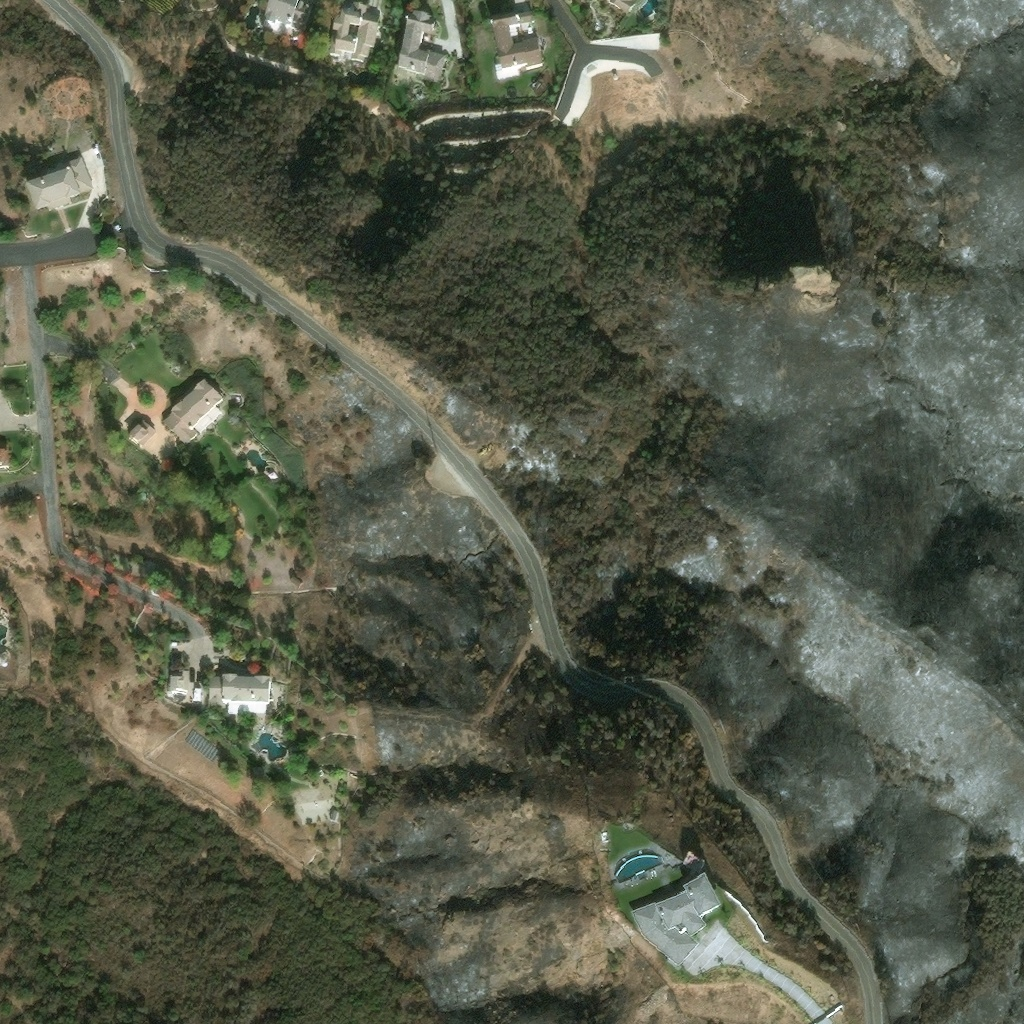0 no-damage: (630, 875, 721, 968), (488, 8, 547, 81), (160, 379, 223, 447), (23, 157, 95, 212), (396, 10, 448, 85), (327, 3, 385, 66), (208, 676, 271, 716), (262, 0, 310, 38), (127, 421, 156, 449), (603, 0, 637, 17), (167, 674, 194, 695), (682, 852, 706, 875), (0, 445, 8, 468), (232, 394, 243, 407), (329, 808, 338, 821), (1, 662, 9, 669)
